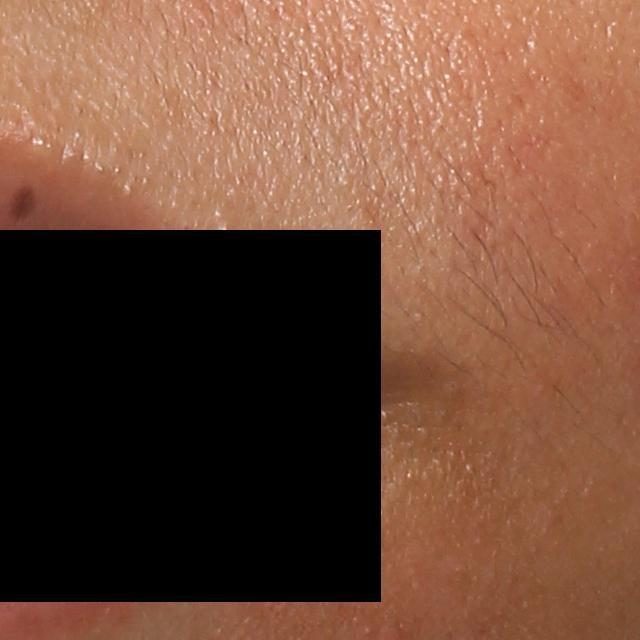nevus: (7, 180, 39, 223)
